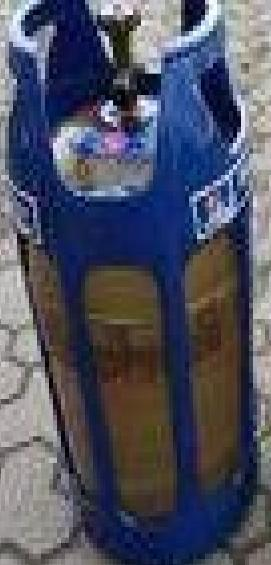cylinder: (1, 0, 271, 565)
